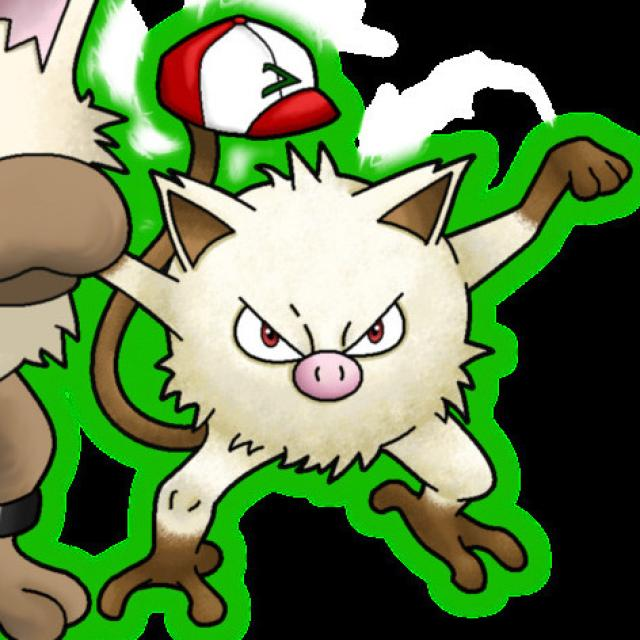Mankey: (114, 161, 544, 572)
